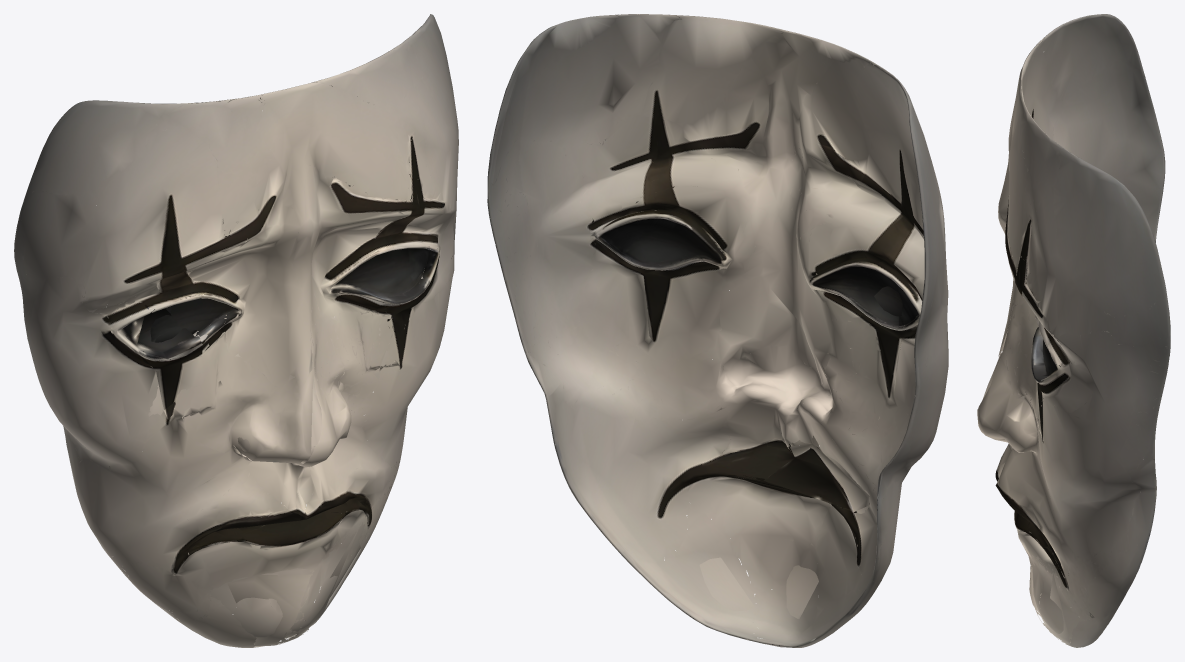
The model's file is mask-opt.glb.
The picture shows the model from 3 angles, left to right: view 1: azimuth 30°, elevation 25°; view 2: azimuth 150°, elevation 25°; view 3: azimuth 270°, elevation 25°; orthographic projection. The views are drawn at different scales.
Visible parts, largest first — view 1: Object_5, Object_10, Object_6, Object_8, Object_12, Object_15, Object_13, Object_9, Object_7, Object_4, Object_11, Object_14 (+1 smaller); view 2: Object_12, Object_16, Object_4, Object_13, Object_9, Object_15, Object_14, Object_11, Object_10, Object_8, Object_7, Object_6 (+1 smaller); view 3: Object_4, Object_16, Object_14, Object_13, Object_8, Object_11, Object_7, Object_10, Object_5, Object_6, Object_9, Object_15.
Boxes of the visible parts, <box> form: Object_5: <box>82,82,408,645</box>; Object_10: <box>21,89,454,590</box>; Object_6: <box>93,292,393,645</box>; Object_8: <box>23,77,458,638</box>; Object_12: <box>26,225,435,464</box>; Object_15: <box>141,38,439,454</box>; Object_13: <box>31,86,402,635</box>; Object_9: <box>66,94,405,614</box>; Object_7: <box>75,104,433,620</box>; Object_4: <box>228,182,457,467</box>; Object_11: <box>297,164,452,552</box>; Object_14: <box>14,50,423,647</box>; Object_12: <box>565,137,948,466</box>; Object_16: <box>487,14,730,562</box>; Object_4: <box>487,136,832,439</box>; Object_13: <box>554,28,939,640</box>; Object_9: <box>689,60,924,616</box>; Object_15: <box>510,14,915,485</box>; Object_14: <box>629,14,938,647</box>; Object_11: <box>507,115,825,479</box>; Object_10: <box>521,33,947,586</box>; Object_8: <box>487,55,932,642</box>; Object_7: <box>638,97,917,593</box>; Object_6: <box>690,276,916,622</box>; Object_4: <box>1006,301,1170,557</box>; Object_16: <box>1053,148,1170,620</box>; Object_14: <box>1020,60,1165,240</box>; Object_13: <box>1012,14,1150,647</box>; Object_8: <box>1014,44,1170,618</box>; Object_11: <box>995,255,1128,619</box>; Object_7: <box>977,184,1053,614</box>; Object_10: <box>1008,41,1156,620</box>; Object_5: <box>998,72,1084,646</box>; Object_6: <box>982,300,1070,645</box>; Object_9: <box>995,36,1069,541</box>; Object_15: <box>998,132,1069,379</box>.
Size of the model in its own units: 0.7829 by 1.01 by 0.3248.
1 material, 1 textured.
